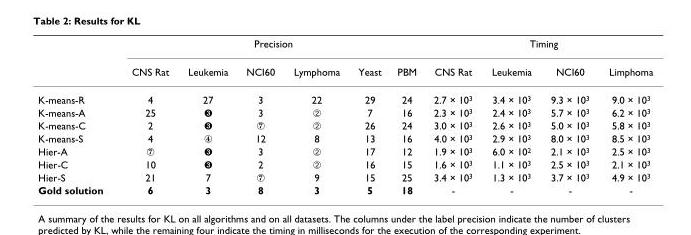table: (37, 37, 652, 195)
table column: (37, 37, 116, 195), (283, 37, 348, 195), (116, 37, 177, 195), (177, 37, 236, 195), (481, 37, 540, 195), (540, 37, 598, 195), (424, 37, 481, 195), (598, 37, 652, 195), (236, 37, 283, 195), (348, 37, 388, 195), (388, 37, 424, 195)
table column header: (37, 37, 652, 85)
table row: (37, 57, 652, 85), (37, 37, 652, 57), (37, 85, 652, 105), (37, 105, 652, 118), (37, 118, 652, 131), (37, 131, 652, 144), (37, 144, 652, 157), (37, 157, 652, 170), (37, 170, 652, 183), (37, 183, 652, 195)
table spanning cell: (116, 37, 424, 57), (424, 37, 652, 57)
